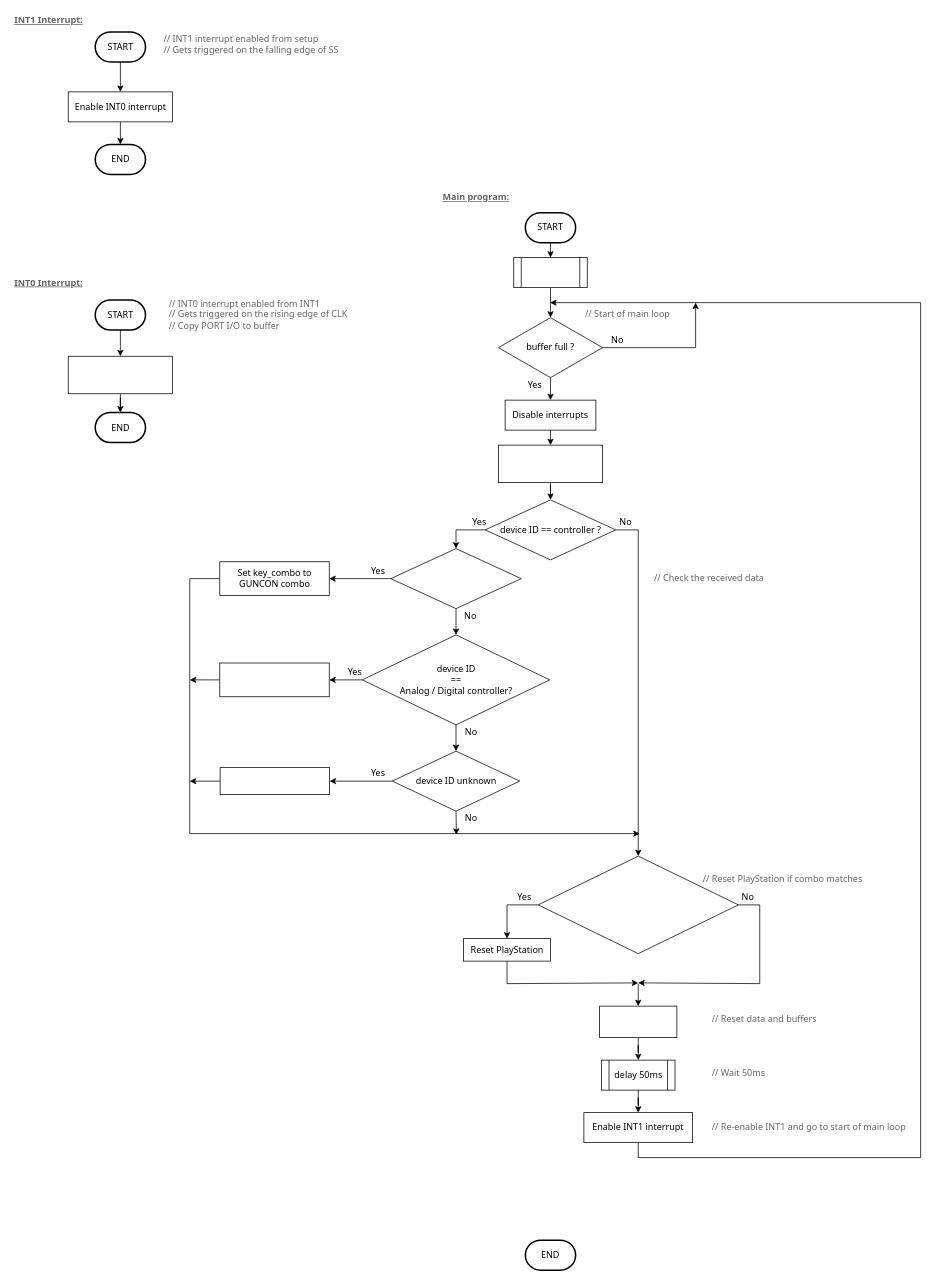
This 940x1283 diagram has some shape labels left out. Here are the shapes that lost their labels. From the top down, the centre of each, then its label:
pixel 550 272: SETUP
pixel 120 375: Copy I/O in buffer + increase buffer index
pixel 550 463: Convert buffer data into structures
pixel 455 578: device ID == GUNCON?
pixel 274 679: Set key_combo to controller combo
pixel 274 781: Set key_combo to 0
pixel 637 904: key_combo != 0 && (switches ^key_combo) == 0
pixel 638 1021: Clear structures and buffers
